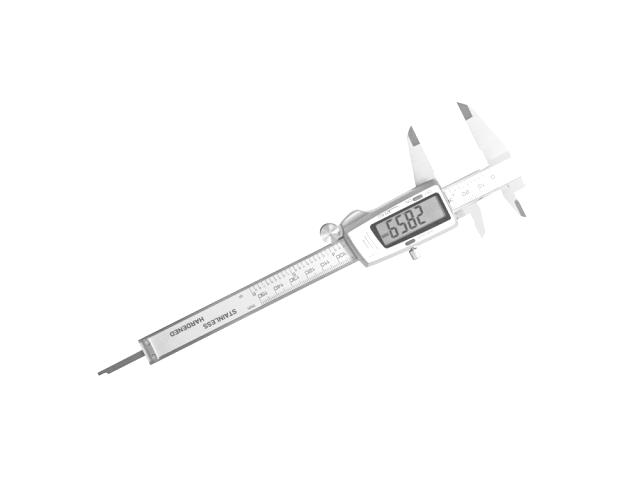Calipers: (99, 103, 525, 374)
